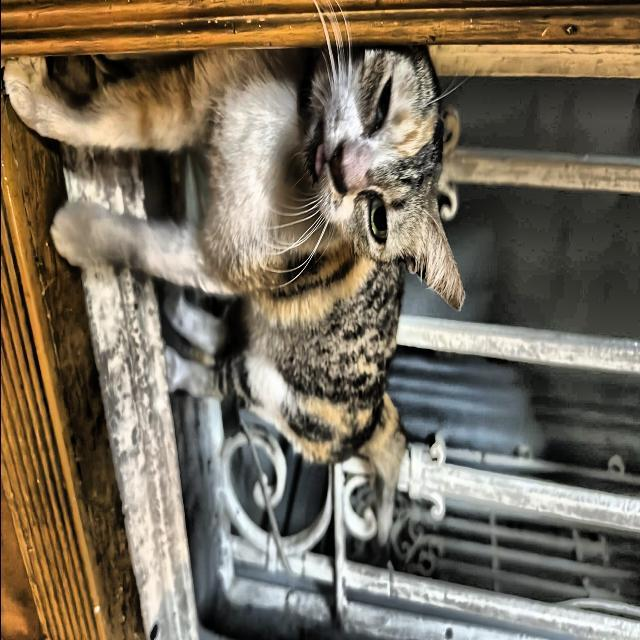Healthy skin: (286, 150, 386, 352)
